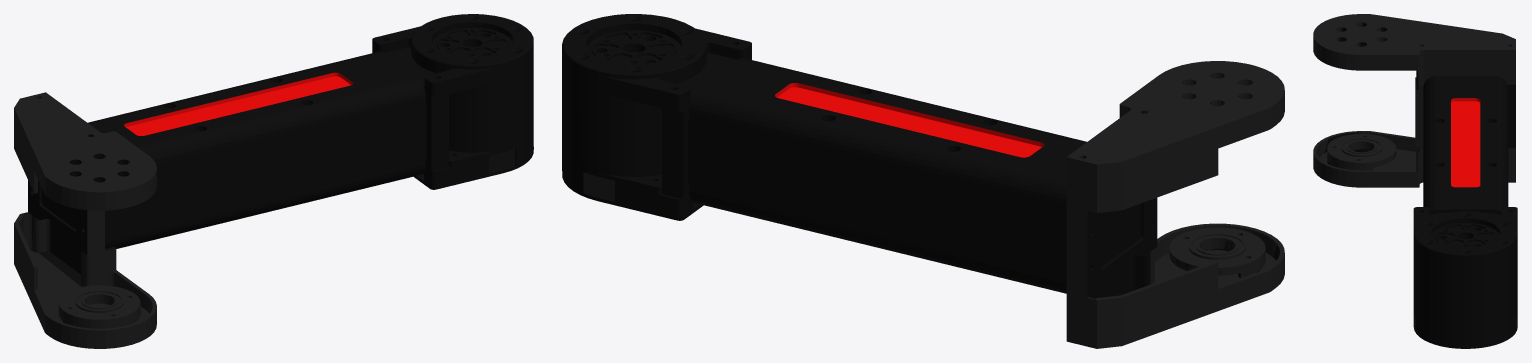
3 views of the same model, side by side, from view 1: azimuth 30°, elevation 25°; view 2: azimuth 150°, elevation 25°; view 3: azimuth 270°, elevation 25° (orthographic). The views are drawn at different scales.
Parts seen in each view (by area): view 1: link3; view 2: link3; view 3: link3.
Part boxes in pixels (x1,y1,x2,y2): link3: (14,14,533,348); link3: (562,14,1284,348); link3: (1313,14,1517,348).
Bounding box in the file's own units: 0.303 × 0.0845 × 0.118.
